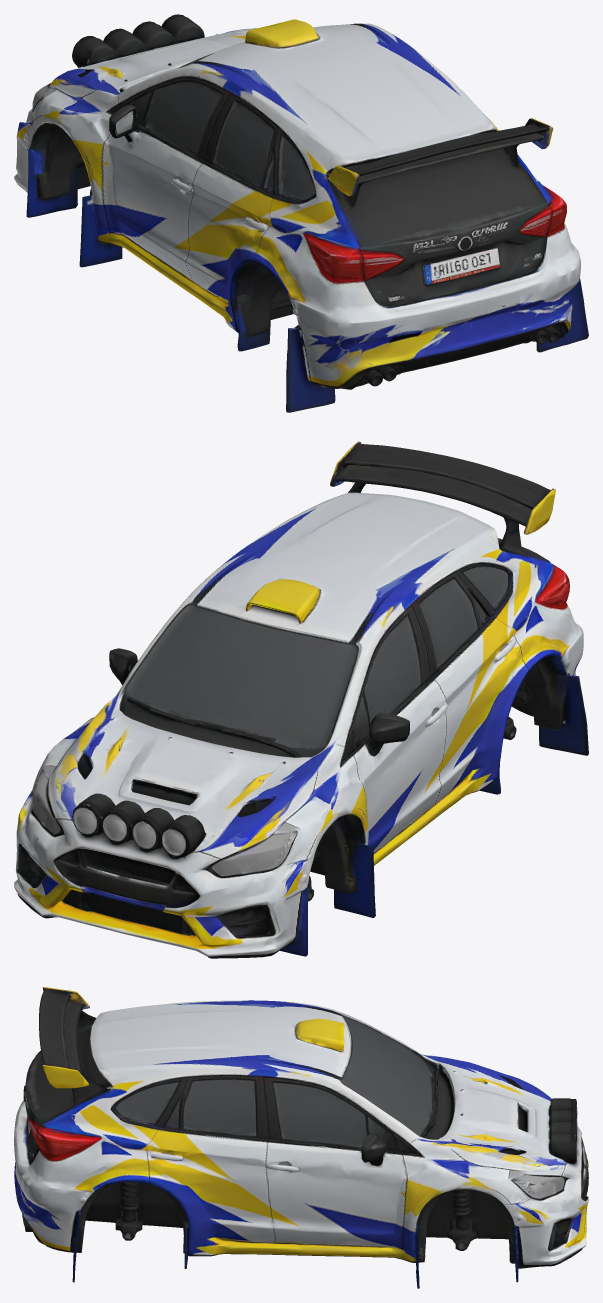
Rendered from rally.glb.
3 views of the same model, one above another, from view 1: azimuth 30°, elevation 25°; view 2: azimuth 150°, elevation 25°; view 3: azimuth 270°, elevation 25° (orthographic). The views are drawn at different scales.
Parts seen in each view (by area): view 1: tripo_node_070ed0eb-e52e-4659-ad5f-7272cef249a8; view 2: tripo_node_070ed0eb-e52e-4659-ad5f-7272cef249a8; view 3: tripo_node_070ed0eb-e52e-4659-ad5f-7272cef249a8.
Boxes of the visible parts, left/top/right/bottom form: tripo_node_070ed0eb-e52e-4659-ad5f-7272cef249a8: left=14, top=14, right=588, bottom=412; tripo_node_070ed0eb-e52e-4659-ad5f-7272cef249a8: left=14, top=441, right=588, bottom=958; tripo_node_070ed0eb-e52e-4659-ad5f-7272cef249a8: left=14, top=987, right=588, bottom=1288.
Size of the model in its own units: 1.87 by 1.5 by 3.75.
1 material, 1 textured.
